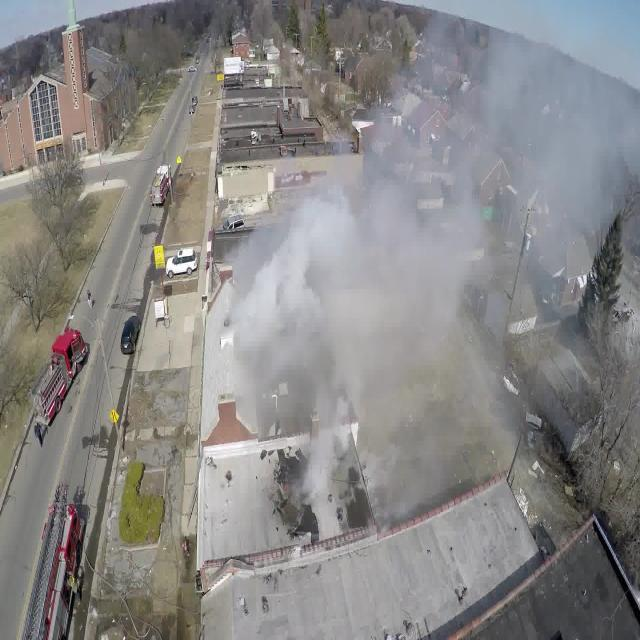Smoke: (254, 11, 566, 547)
